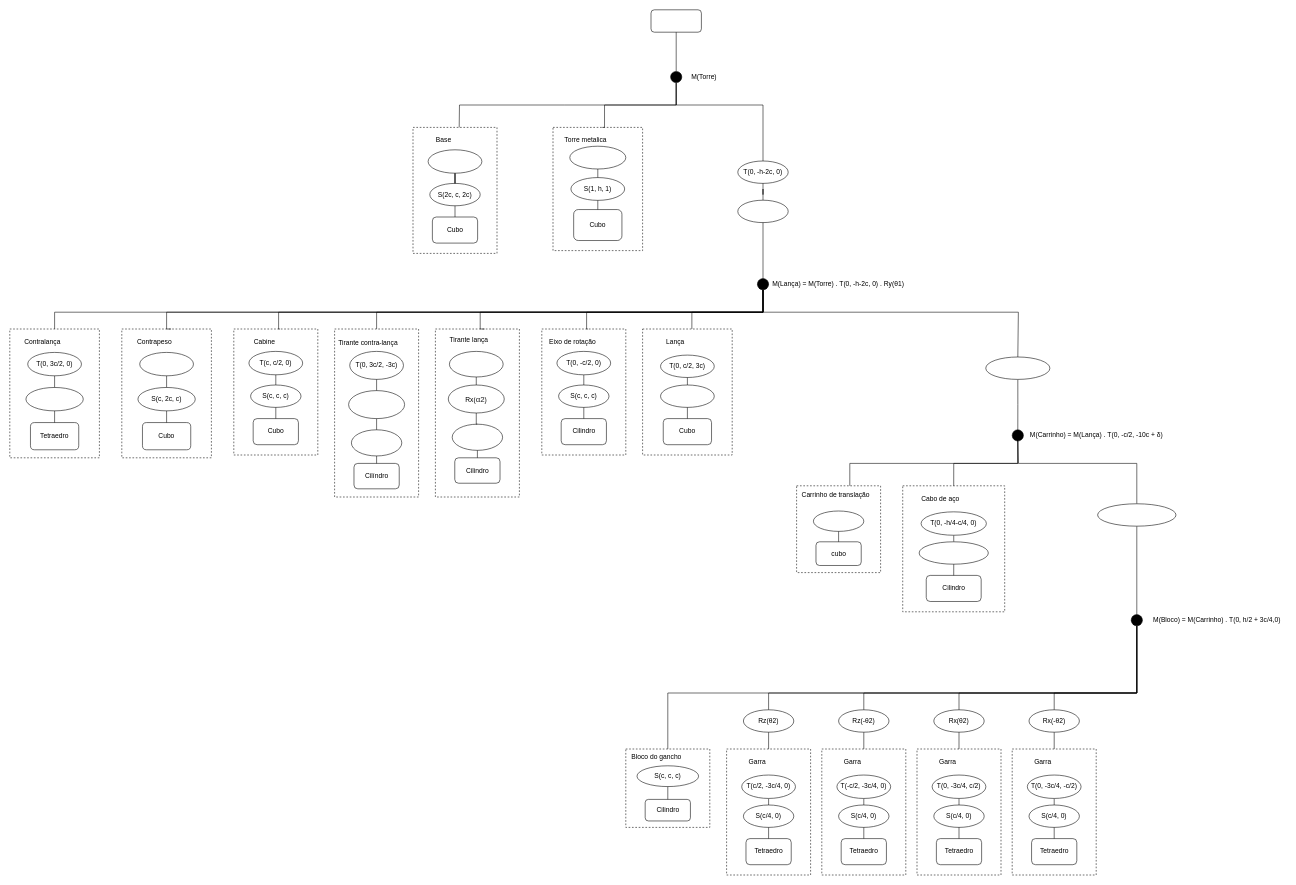
This 1296x885 diagram has some shape labels left out. Each missing label, with the centre of its shape:
Grua: point (675, 20)
Rx( α 1 ): point (376, 404)
Ry(θ1): point (762, 211)
S(c, c, 15c): point (687, 395)
S(c/2, 0): point (54, 399)
S(c/2, c/2, c): point (838, 520)
S(c/4, c/4 + δ2, h/2): point (953, 552)
S(c/4, c/4, L1): point (376, 442)
S(c/4, c/4, L2): point (477, 437)
T(0, -c, -3c): point (166, 364)
T(0, 0, -10c + δ): point (1017, 367)
T(0, 3c/2, 8c): point (476, 364)
T(0, c/2, 0): point (455, 161)
T(0, h/2 + 3c/4,0): point (1136, 514)
T(0, h/2 + c/2, 0): point (597, 157)
